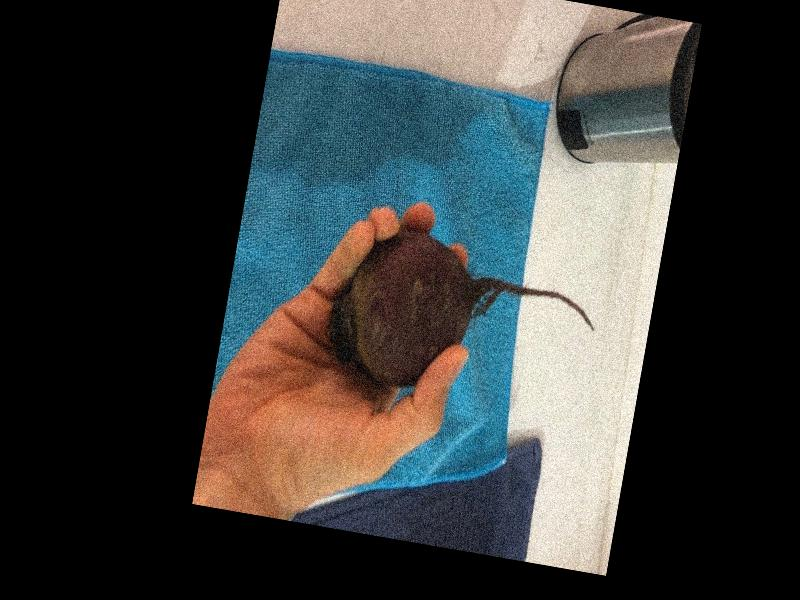Beet: (319, 217, 604, 418)
